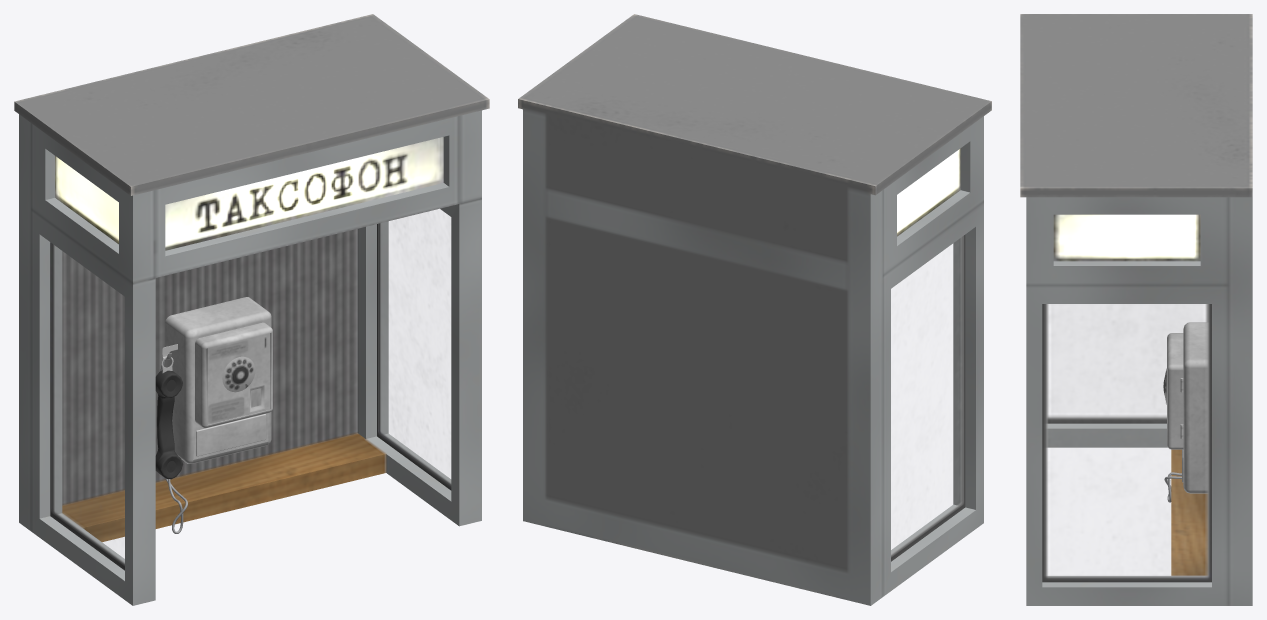
File: payphone.glb
3 views of the same model, side by side, from view 1: azimuth 30°, elevation 25°; view 2: azimuth 150°, elevation 25°; view 3: azimuth 270°, elevation 25° (orthographic).
Visible parts, largest first — view 1: payphone; view 2: payphone; view 3: payphone.
Part boxes in pixels (<box>): payphone: <box>14,14,489,605</box>; payphone: <box>518,14,991,605</box>; payphone: <box>1020,14,1252,605</box>.
Bounding box in the file's own units: 1.98 × 2.27 × 1.11.
Materials: 1 (1 with a texture image).
